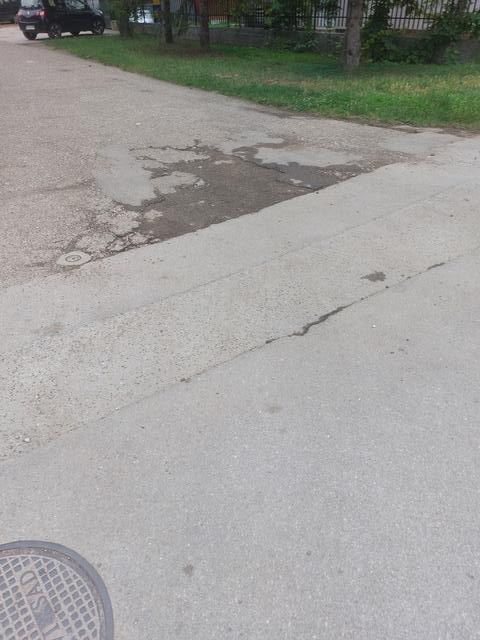pothole: (131, 142, 336, 227)
